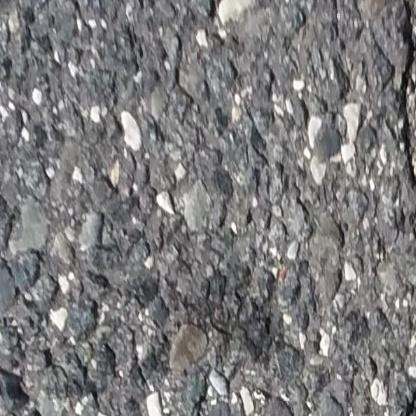Cracks: (397, 0, 416, 219), (404, 269, 416, 416)
